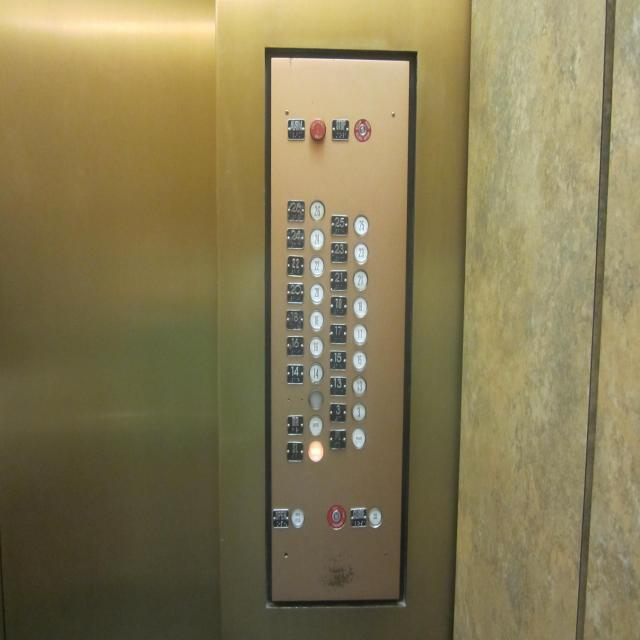13: (329, 376, 346, 396), (352, 375, 367, 397)
14: (308, 362, 324, 384), (286, 364, 302, 385)
15: (329, 349, 346, 371), (352, 350, 366, 372)
16: (308, 336, 324, 359), (286, 336, 304, 356)
17: (328, 324, 348, 346), (353, 323, 367, 345)
18: (286, 310, 304, 330), (308, 310, 324, 332)
19: (330, 296, 348, 317), (352, 296, 368, 318)
20: (286, 282, 304, 305), (308, 282, 324, 304)
21: (330, 269, 348, 292), (353, 269, 368, 291)
22: (286, 254, 304, 276), (310, 255, 324, 278)
23: (330, 241, 348, 264), (353, 242, 369, 263)
24: (286, 228, 304, 250), (309, 228, 325, 250)
25: (331, 215, 348, 236), (353, 215, 369, 235)
26: (286, 200, 306, 222), (309, 200, 325, 222)
3: (330, 402, 346, 422), (352, 402, 366, 422)
BR: (286, 415, 303, 435)
PL: (329, 429, 346, 449)
SL: (286, 442, 304, 463)
empty: (308, 388, 324, 410)
keyhole: (328, 505, 346, 529), (354, 119, 371, 142)
text: (310, 119, 326, 140)
text_alarm bell: (287, 118, 305, 140)
text_blur: (307, 440, 323, 462), (290, 507, 304, 529), (368, 507, 382, 528)
text_bridge: (308, 415, 323, 435)
text_close door: (348, 506, 368, 528)
text_open door: (272, 510, 289, 528)
text_plaza: (350, 428, 366, 449)
text_stop: (331, 119, 349, 140)
